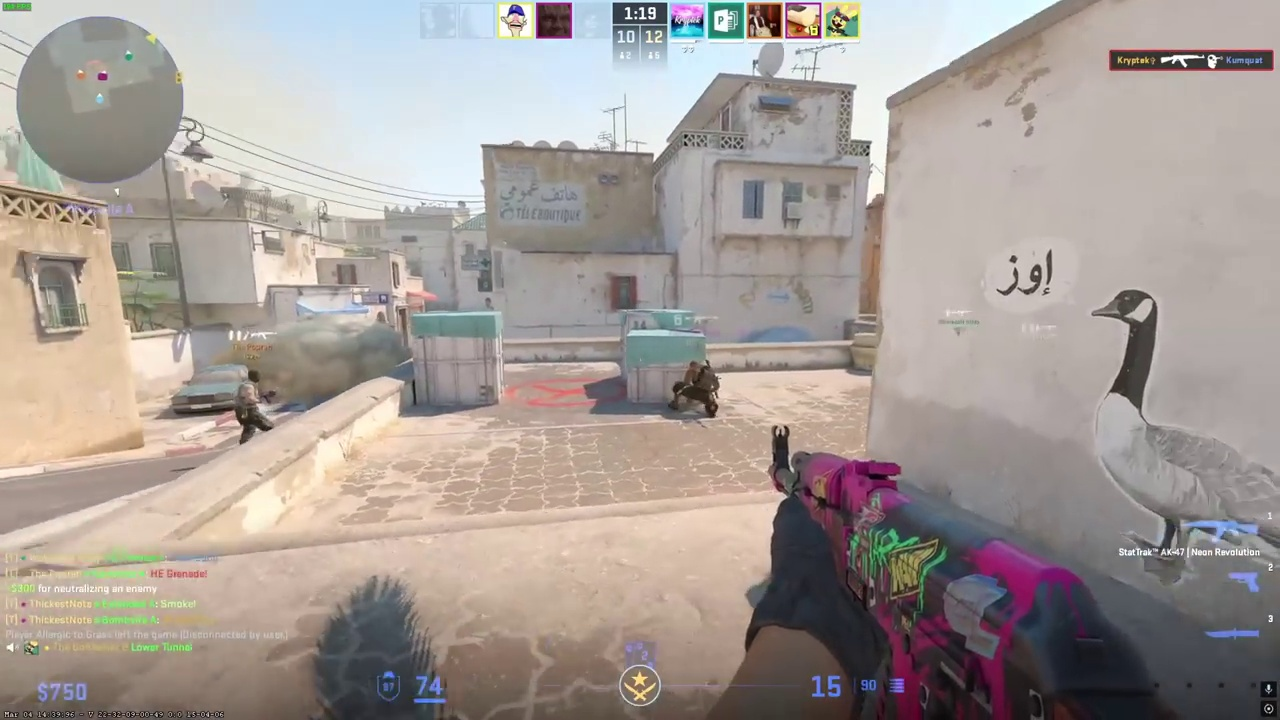Terrorist: (670, 359, 720, 418), (233, 369, 271, 446)
